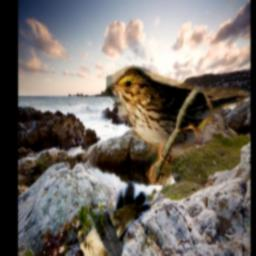Sparrow: (106, 65, 248, 186)
Swallow: (69, 182, 151, 256)
